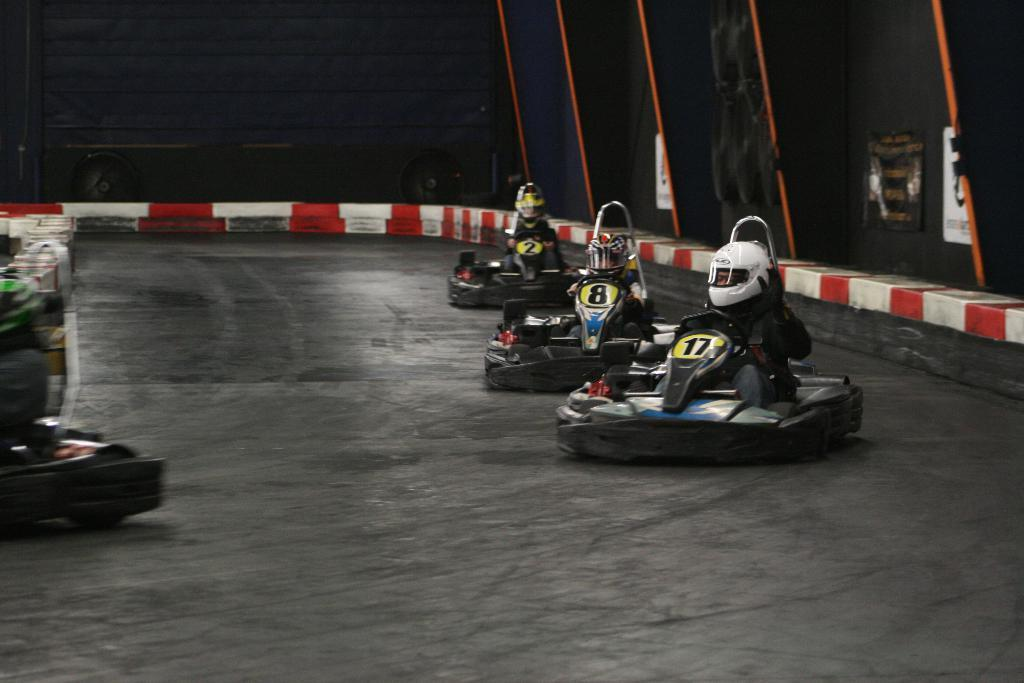helmet: (708, 241, 770, 307), (584, 233, 629, 282), (514, 192, 545, 229)
